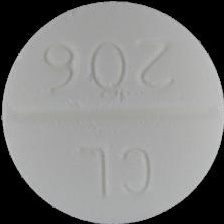64980-182: (0, 0, 224, 224)
